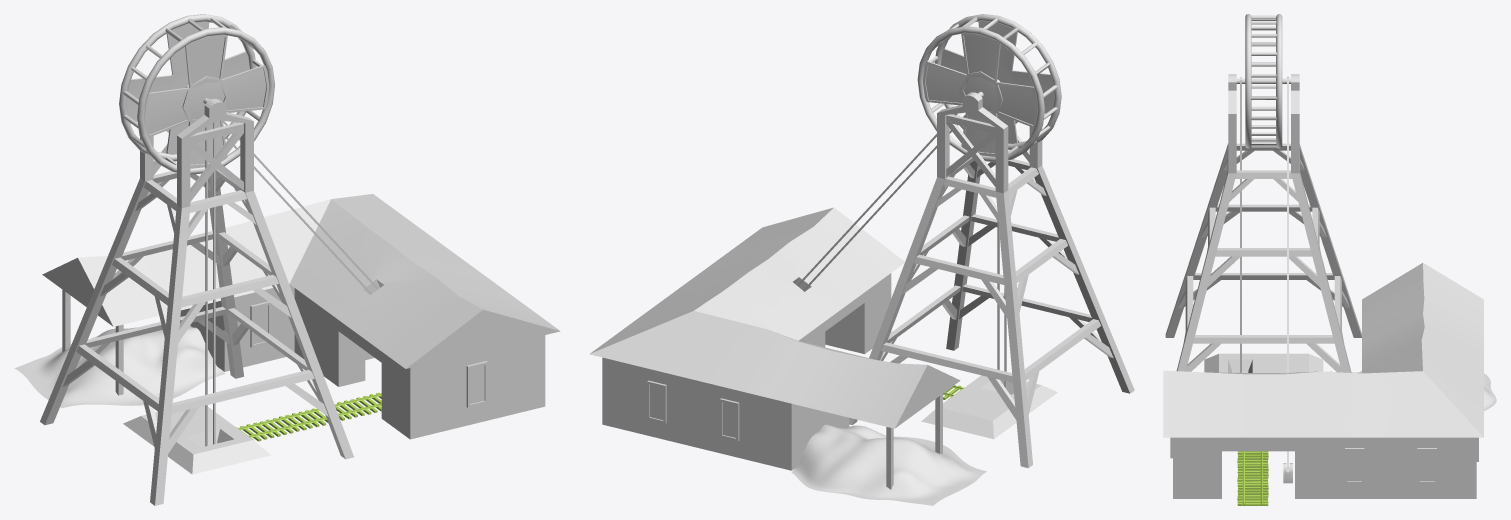
The model's file is ironMine.fbx.
3 views of the same model, side by side, from view 1: azimuth 30°, elevation 25°; view 2: azimuth 150°, elevation 25°; view 3: azimuth 270°, elevation 25° (orthographic). The views are drawn at different scales.
Visible parts, largest first — view 1: Cube.006, Cube, Cube.004, Cylinder.001, Plane.001, Cube.007, railroad_gav, Cylinder.002, Cylinder.003, Cube.011, Cube.016; view 2: Cube.006, Cube, Cube.004, Cylinder.001, Plane.001, Cube.007, Cylinder.003, Cube.015, Cube.014; view 3: Cube.006, Cube, Cube.004, Cylinder.001, Cube.007, railroad_gav, Cube.012, Cube.013, Cylinder.003, Cylinder.002.
Boxes of the visible parts, x1,y1,x2,y2 form: Cube.006: (42,194,560,368); Cube: (40,74,353,505); Cube.004: (62,284,545,439); Cylinder.001: (119,14,274,174); Plane.001: (14,326,225,408); Cube.007: (123,405,270,474); railroad_gav: (236,392,381,441); Cylinder.002: (205,99,215,446); Cylinder.003: (223,121,378,294); Cube.011: (466,361,487,407); Cube.016: (250,301,271,347); Cube.006: (589,207,960,428); Cube: (849,70,1134,468); Cube.004: (602,273,942,489); Cylinder.001: (917,14,1061,162); Plane.001: (791,424,986,505); Cube.007: (921,375,1057,439); Cylinder.003: (797,94,979,291); Cube.015: (720,398,739,441); Cube.014: (647,380,666,423); Cube.006: (1163,263,1483,437); Cube: (1165,74,1361,372); Cube.004: (1173,437,1476,498); Cylinder.001: (1236,14,1290,148); Cube.007: (1204,353,1323,372); railroad_gav: (1237,451,1268,505); Cube.012: (1345,448,1364,483); Cube.013: (1417,448,1436,483); Cylinder.003: (1287,76,1288,471); Cylinder.002: (1240,77,1241,372).
Size of the model in its own units: 2564 by 2527 by 2126.
